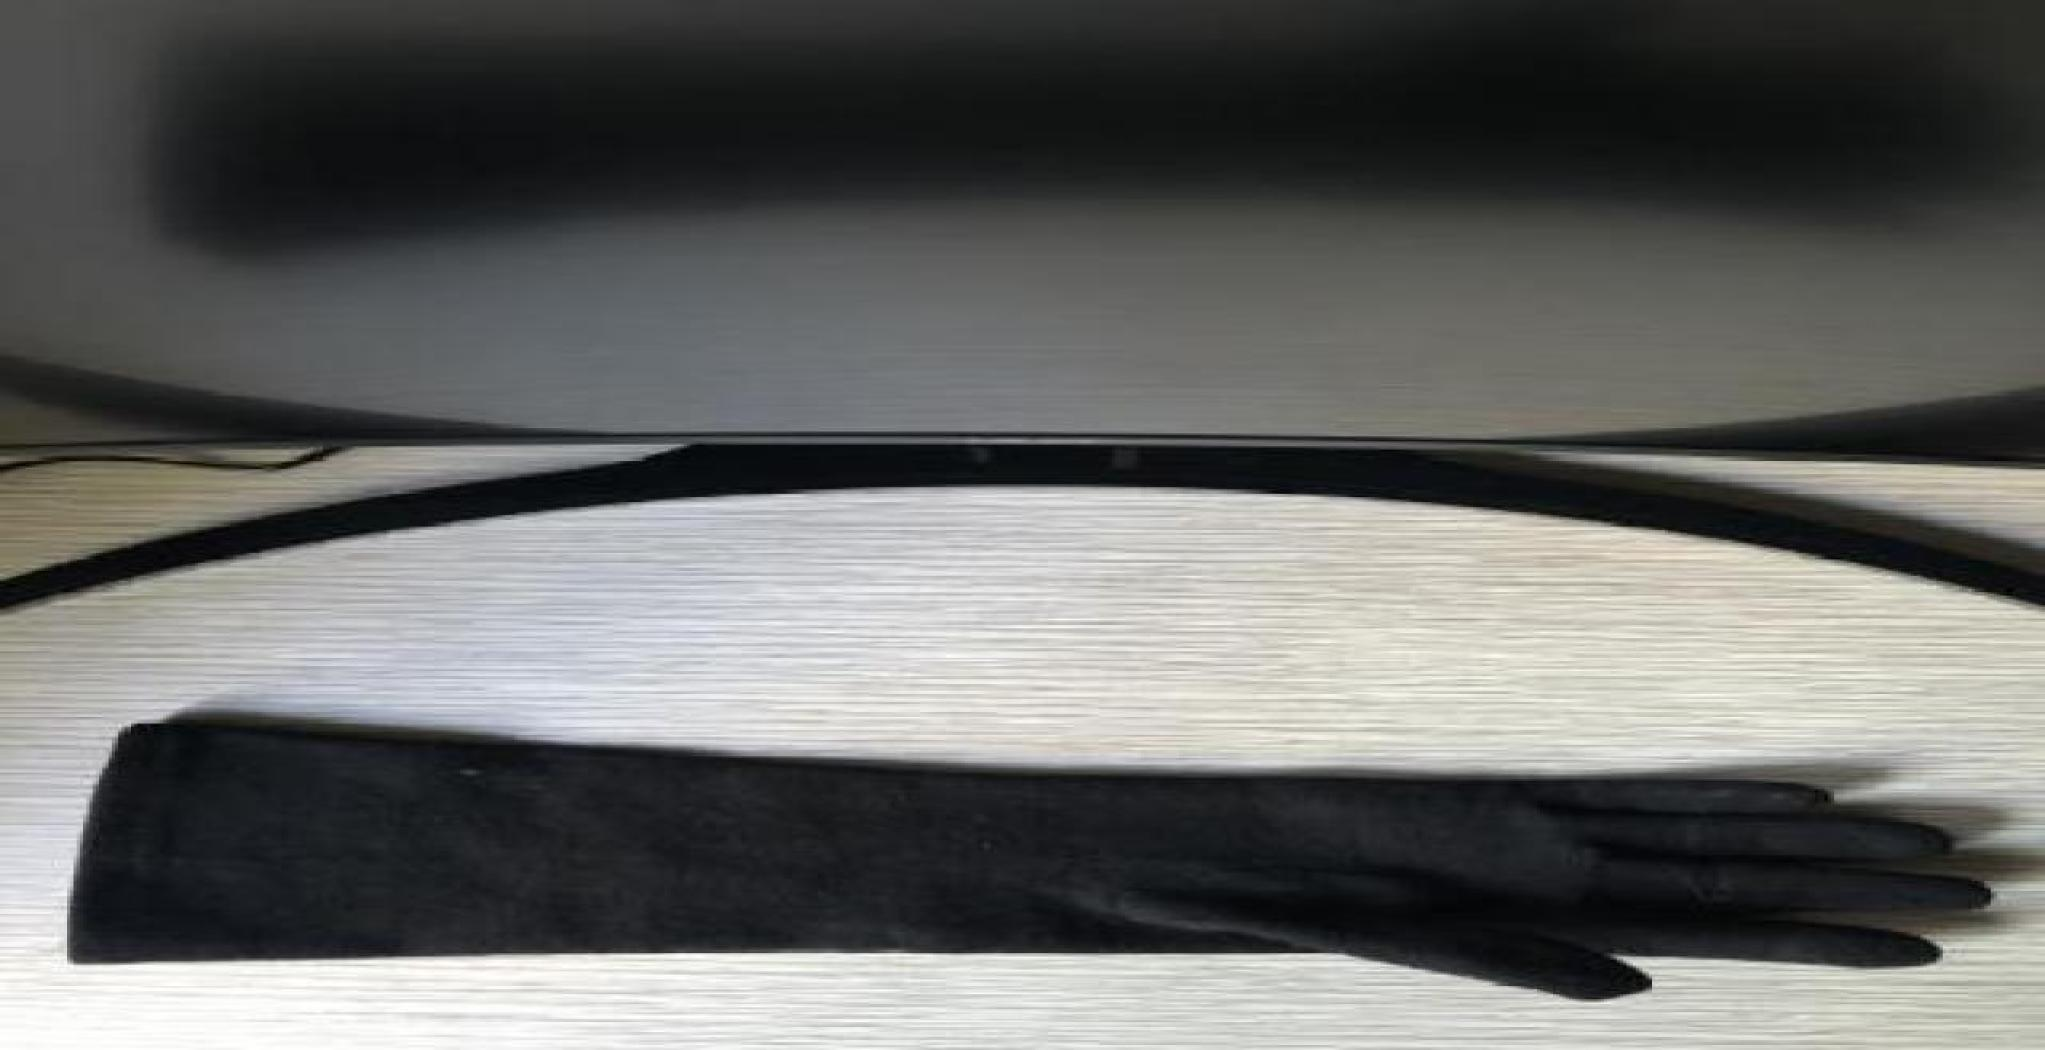gloved: (64, 707, 1994, 1003)
